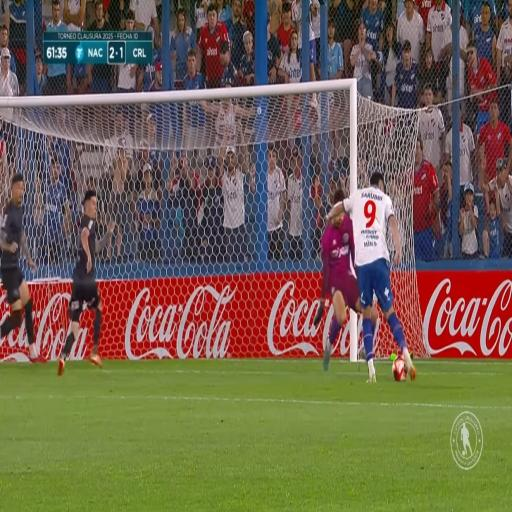Goalkeeper: (321, 189, 363, 357)
Player: (355, 176, 403, 384), (0, 170, 30, 363), (68, 190, 103, 351)
